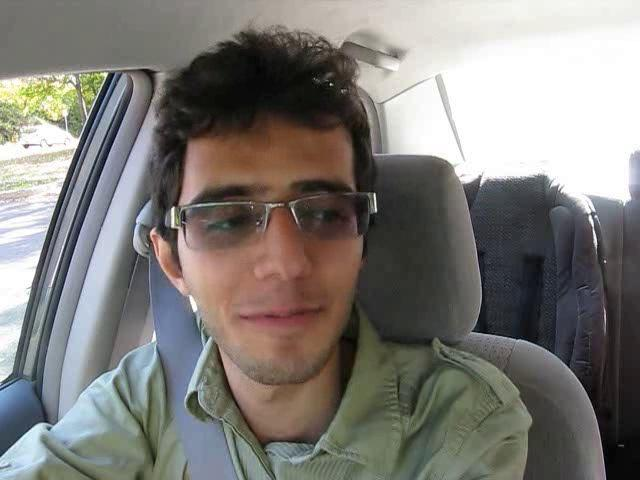close_eyeL: (182, 195, 265, 247)
close_eyeR: (291, 188, 364, 240)
no_yawn: (216, 292, 335, 345)
